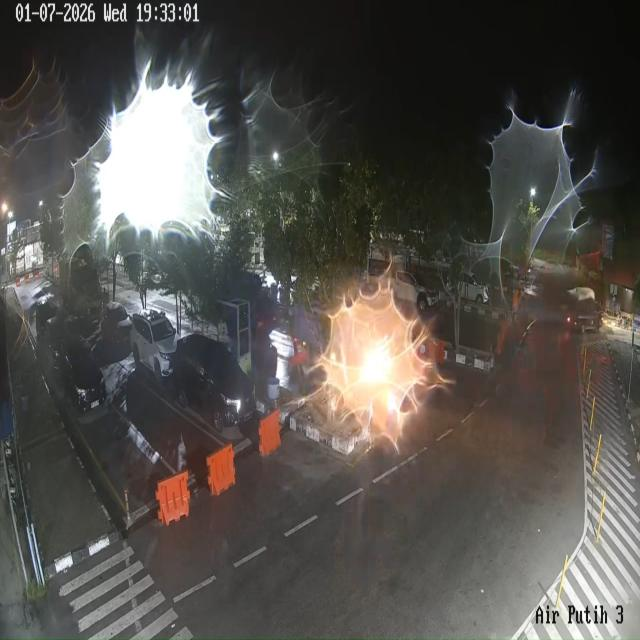Golongan IVA: (173, 333, 256, 432), (60, 335, 106, 414), (130, 309, 177, 382), (38, 313, 69, 370), (101, 302, 131, 345), (35, 294, 59, 336)
